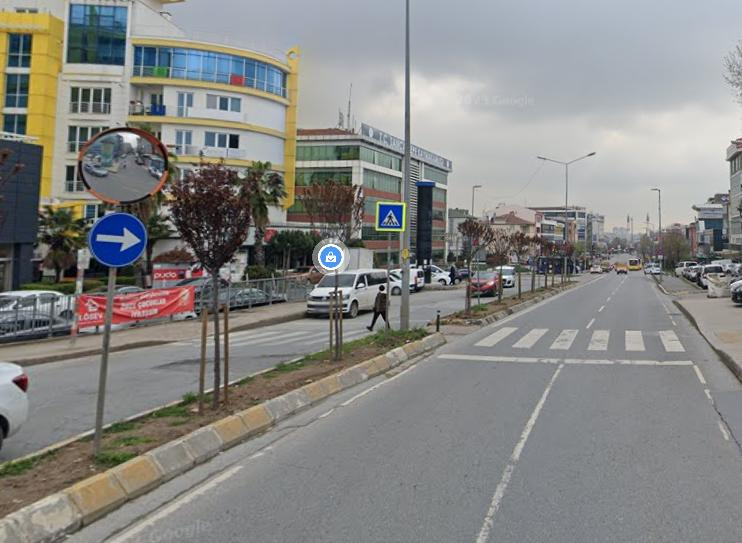turnright: (92, 214, 146, 264)
